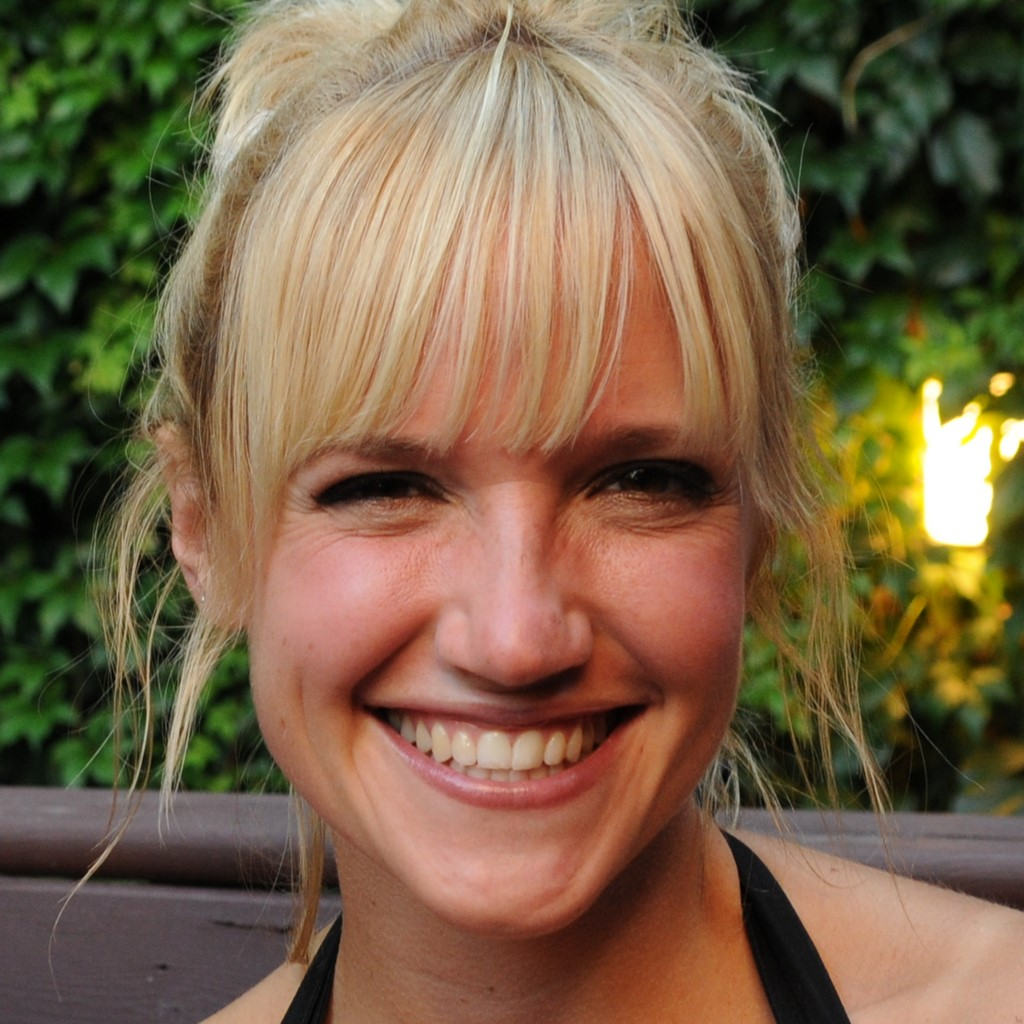sin_mascara: (204, 136, 750, 911)
